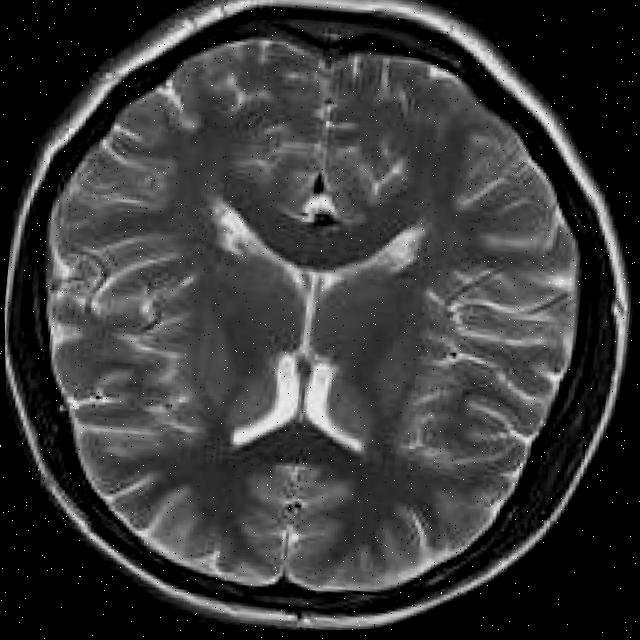NoTumor: (4, 0, 618, 628)
